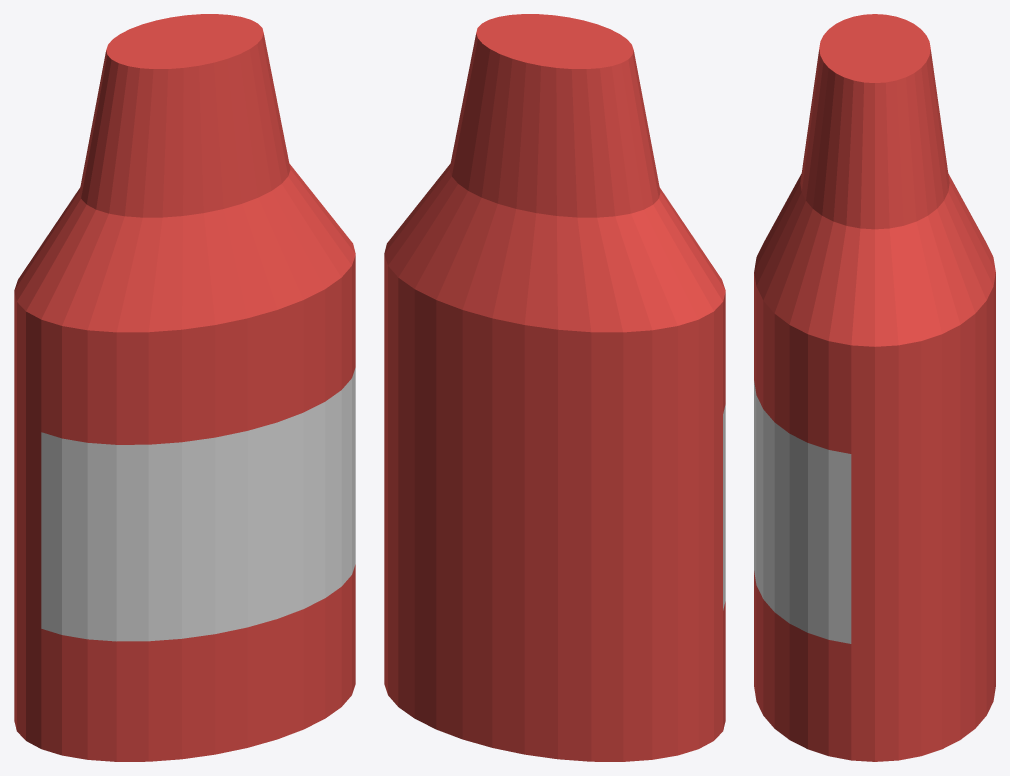
File: ENVIRONMENT_OFFICE_BOTOL3.fbx
3 views of the same model, side by side, from view 1: azimuth 30°, elevation 25°; view 2: azimuth 150°, elevation 25°; view 3: azimuth 270°, elevation 25° (orthographic). The views are drawn at different scales.
Parts seen in each view (by area): view 1: Cylinder.054; view 2: Cylinder.054; view 3: Cylinder.054.
Part boxes in pixels (<box>): Cylinder.054: <box>14,14,355,761</box>; Cylinder.054: <box>384,14,725,761</box>; Cylinder.054: <box>754,14,995,761</box>.
Size of the model in its own units: 18.5 by 36.73 by 12.6.
